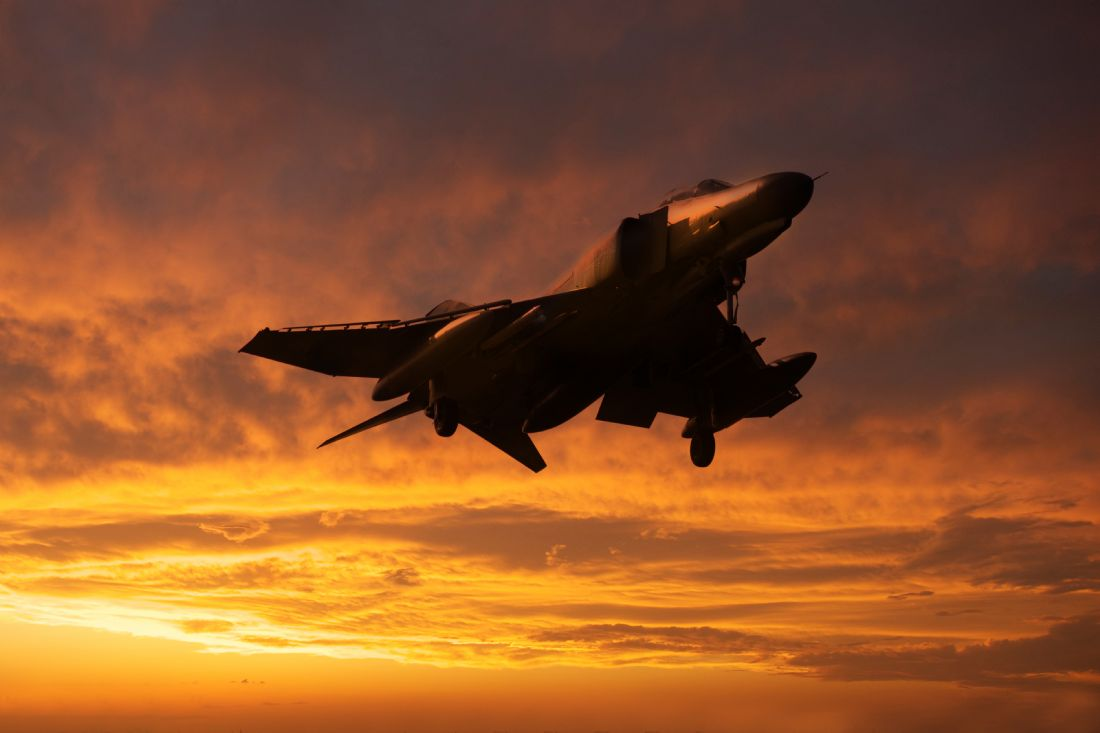F4: (238, 170, 828, 473)
